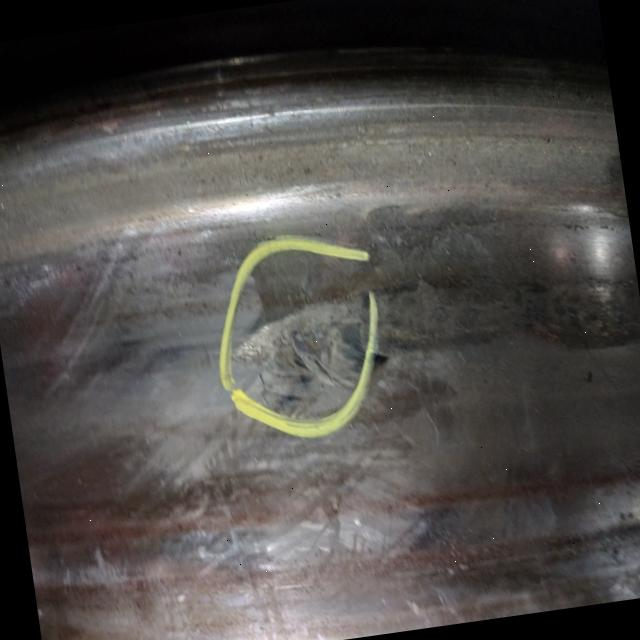Rollerpile: (235, 272, 374, 414)
